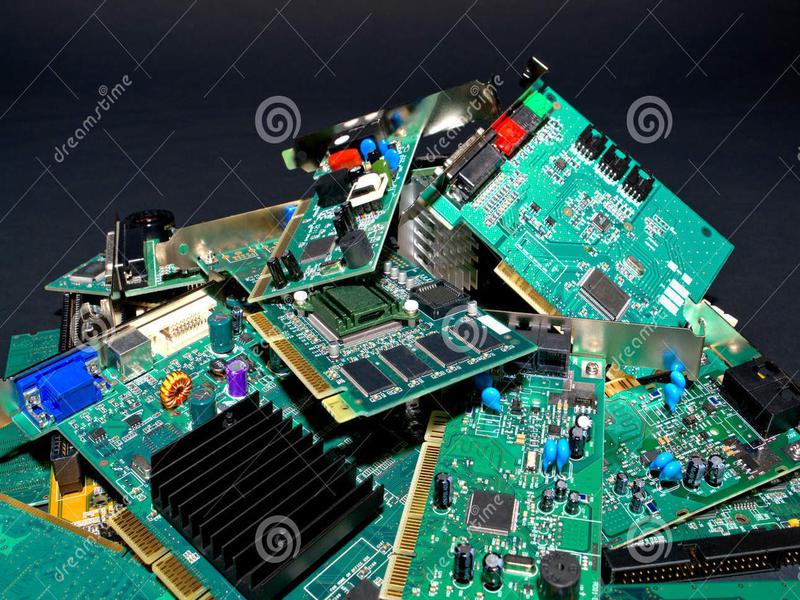circuit_board: (1, 285, 411, 600), (413, 63, 741, 323), (376, 353, 613, 600), (600, 331, 800, 590), (238, 256, 540, 426), (238, 91, 443, 306)
